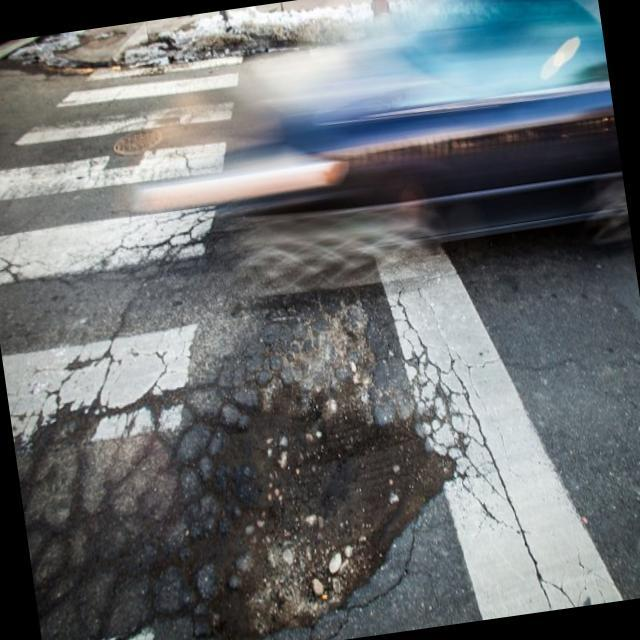Pothole: (42, 301, 492, 640)
